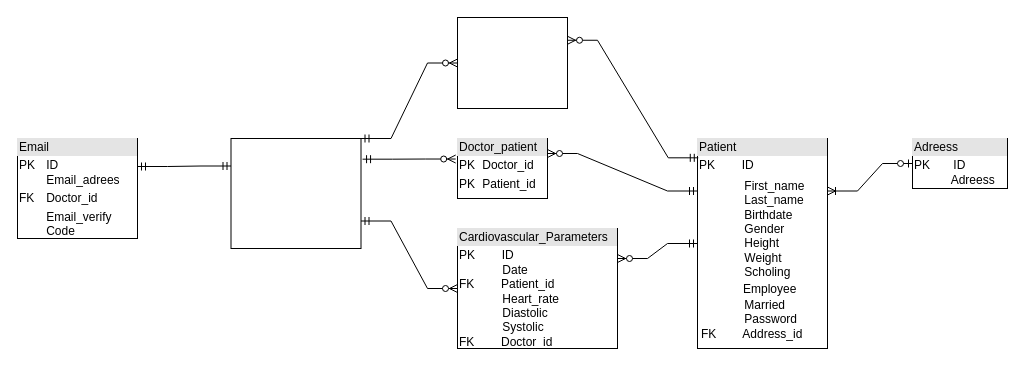
Image size: 1025x366. Some labels were removed from this diagram. Here are the shapes that lost their labels. From the top down, the centre of each, then its label:
At (x=512, y=62): "Blood_sugar_levels PK ID Date FK Patient_id Value FK Doctor_id".
At (x=295, y=193): "Doctor PK ID First_name Last_name Portrait Specialty Password".
